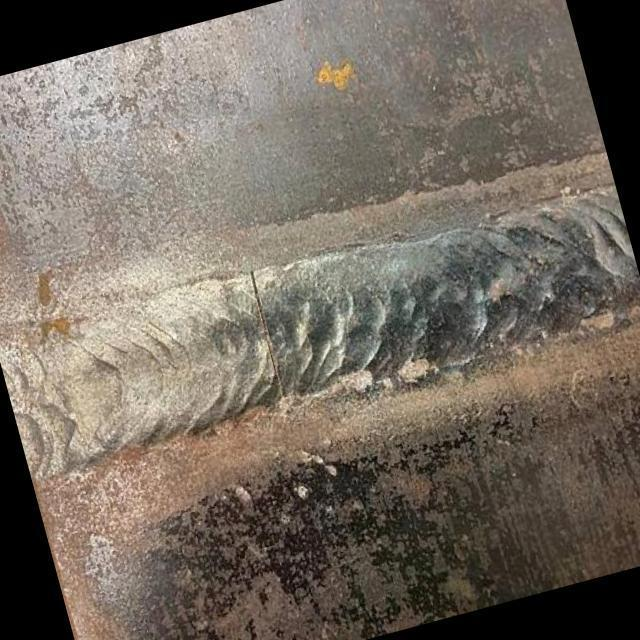defect: (244, 256, 286, 393)
